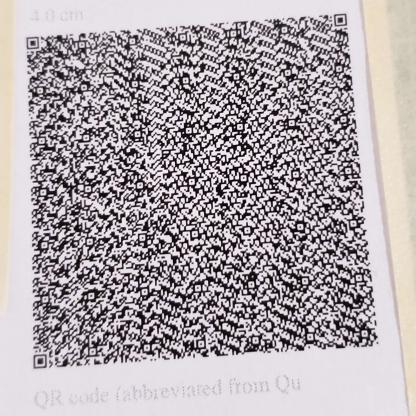qr: (19, 10, 388, 375)
